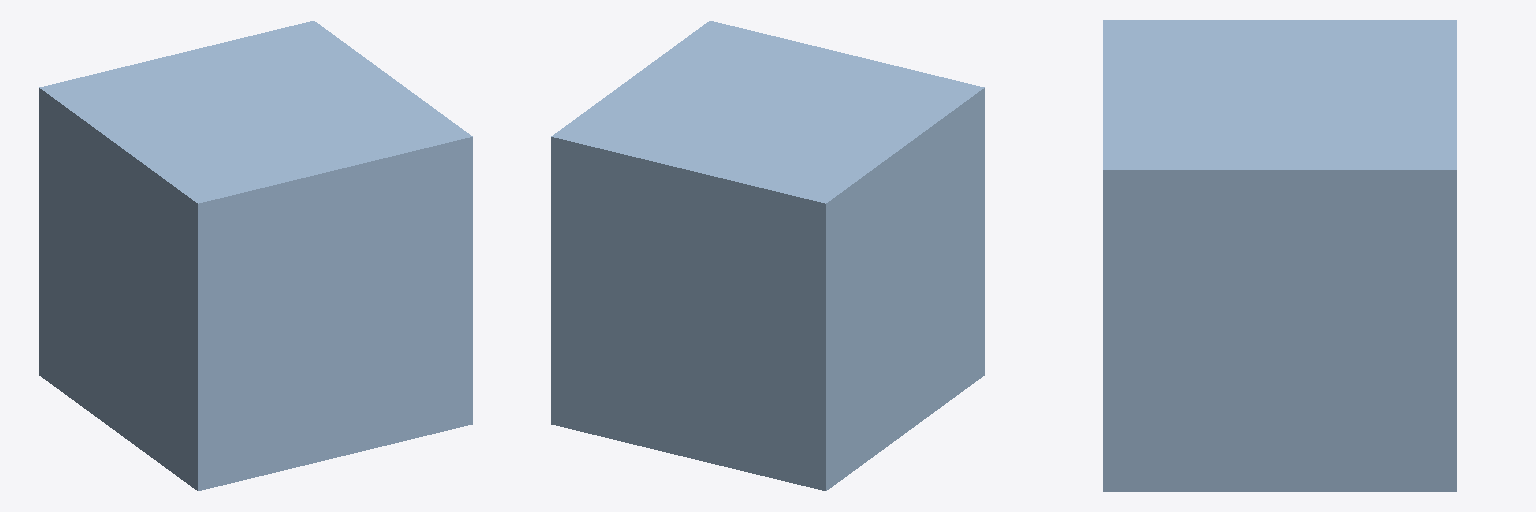
The robot description file, URDF, robot "object":
<?xml version="1.0"?>
<robot name="object">
  <link name="object">
    <visual>
      <origin xyz="0 0 0"/>
      <geometry>
        <box size="0.45 0.45 0.45"/>
      </geometry>
      <material name="mat">
        <color rgba="0.7 0.8 0.9 1"/>
      </material>
    </visual>
	
    <collision>
      <origin xyz="0 0 0"/>
      <geometry>
        <box size="0.45 0.45 0.45"/>
      </geometry>
    </collision>
  </link>
</robot>

--- Facts derived from the render (not from the file) ---
Views: 3 orthographic renders of the robot side by side, from view 1: azimuth 30°, elevation 25°; view 2: azimuth 150°, elevation 25°; view 3: azimuth 270°, elevation 25°.
Robot: object — 1 links, 0 joints (none); root link object; default pose: every joint at zero.
Links seen in each view (by area): view 1: object; view 2: object; view 3: object.
Boxes of the visible links, x1=… form: object: x1=39, y1=21, x2=472, y2=490; object: x1=551, y1=21, x2=984, y2=490; object: x1=1103, y1=20, x2=1456, y2=491.
Size in the robot's own frame: 0.45 by 0.45 by 0.45 metres.
Geometry: primitives only (box / cylinder / sphere), no mesh files.